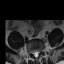CCS_normal: (35, 49, 37, 60)
LFS_stenosis: (39, 48, 42, 54)
LLS_normal: (37, 49, 39, 58)
RFS_severe_stenosis: (30, 49, 32, 55)
RLS_normal: (32, 50, 35, 58)
